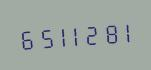eight: (97, 18, 112, 47)
five: (33, 22, 48, 51)
one: (49, 21, 64, 50), (65, 20, 80, 49), (113, 17, 128, 46)
six: (17, 24, 32, 52)
two: (81, 19, 96, 48)
